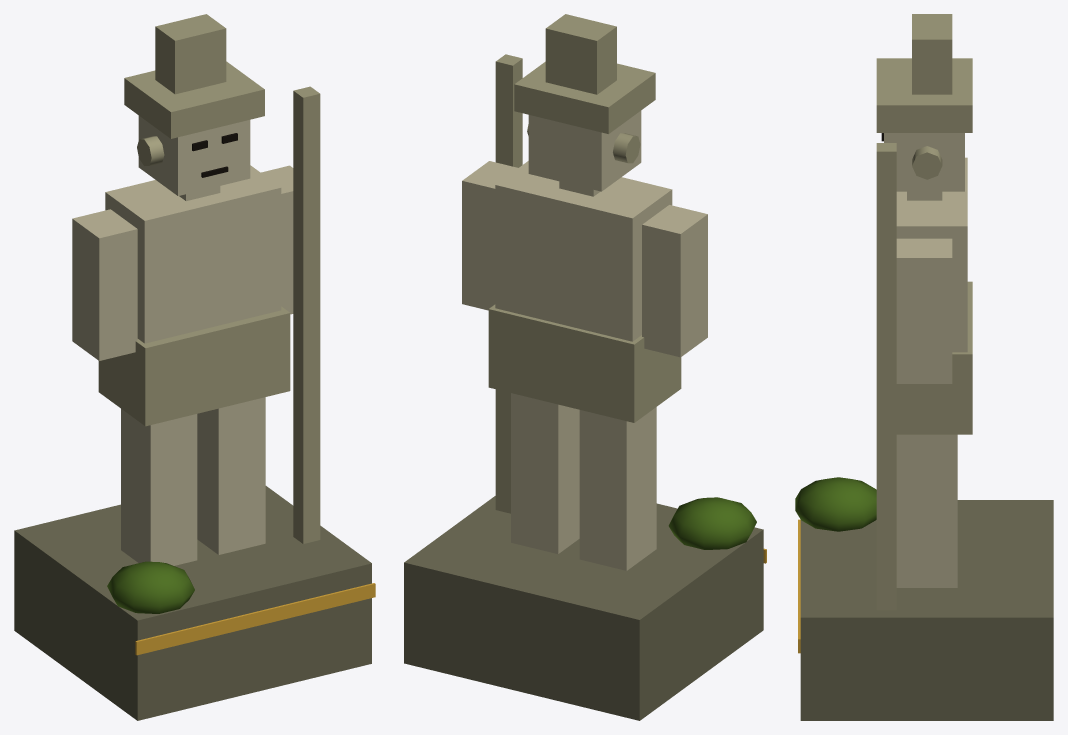
File: jt_statue_small.glb
The picture shows the model from 3 angles, left to right: view 1: azimuth 30°, elevation 25°; view 2: azimuth 150°, elevation 25°; view 3: azimuth 270°, elevation 25°; orthographic projection. The views are drawn at different scales.
Parts seen in each view (by area): view 1: jt_statue_small; view 2: jt_statue_small; view 3: jt_statue_small.
Boxes of the visible parts, x1,y1,x2,y2 form: jt_statue_small: (14,14,375,720); jt_statue_small: (404,14,766,720); jt_statue_small: (795,14,1053,720).
Size of the model in its own units: 1.14 by 2.77 by 1.02.
